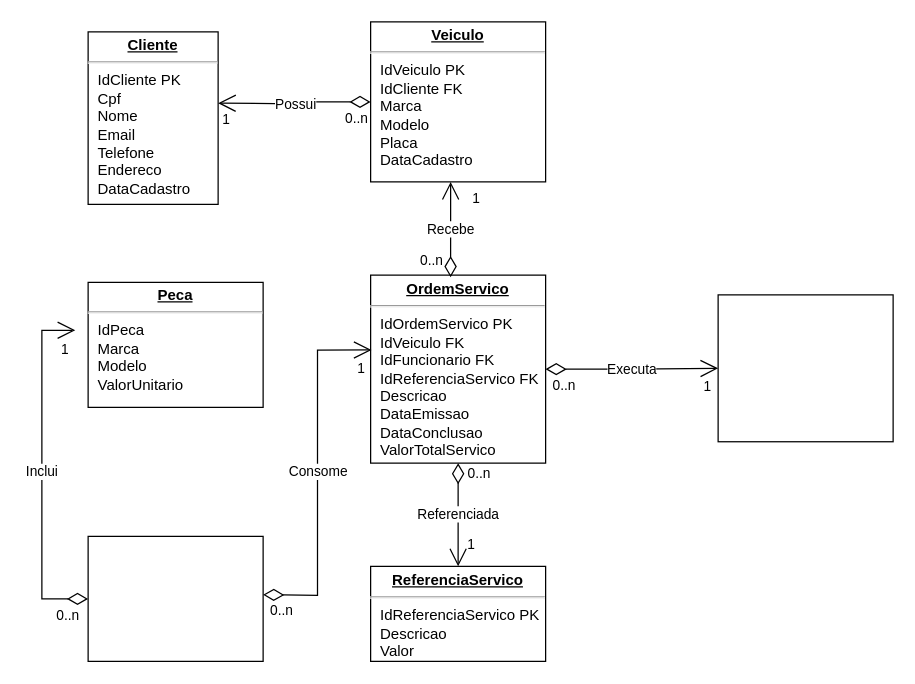
Some shapes in this 915 by 684 pixel diagram are drawn without their labels. The shapes that lost their labels are listed below. From the top down, each one's centre as x and y in pixels, then its label:
At [805,368]: "Funcionario IdFuncionario PK Nome Matricula Especialidade Endereco DataCadastro".
At [175,598]: "PecaServico IdPecaServico Quantidade Valor".
